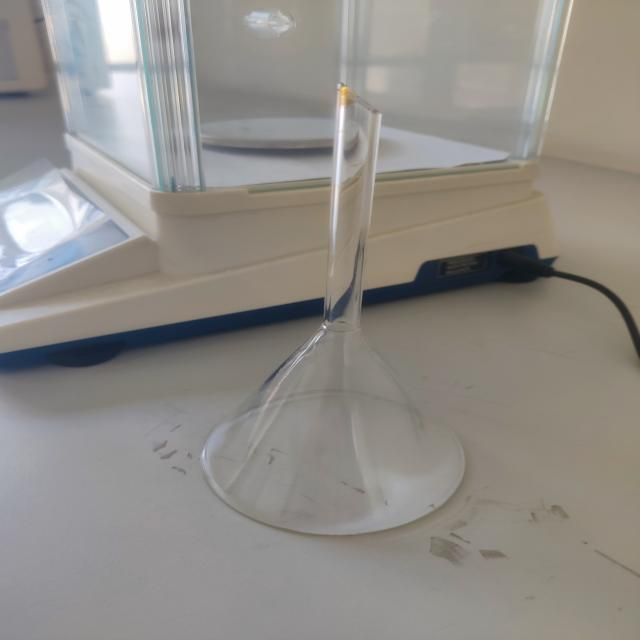Funnel: (145, 69, 522, 573)
